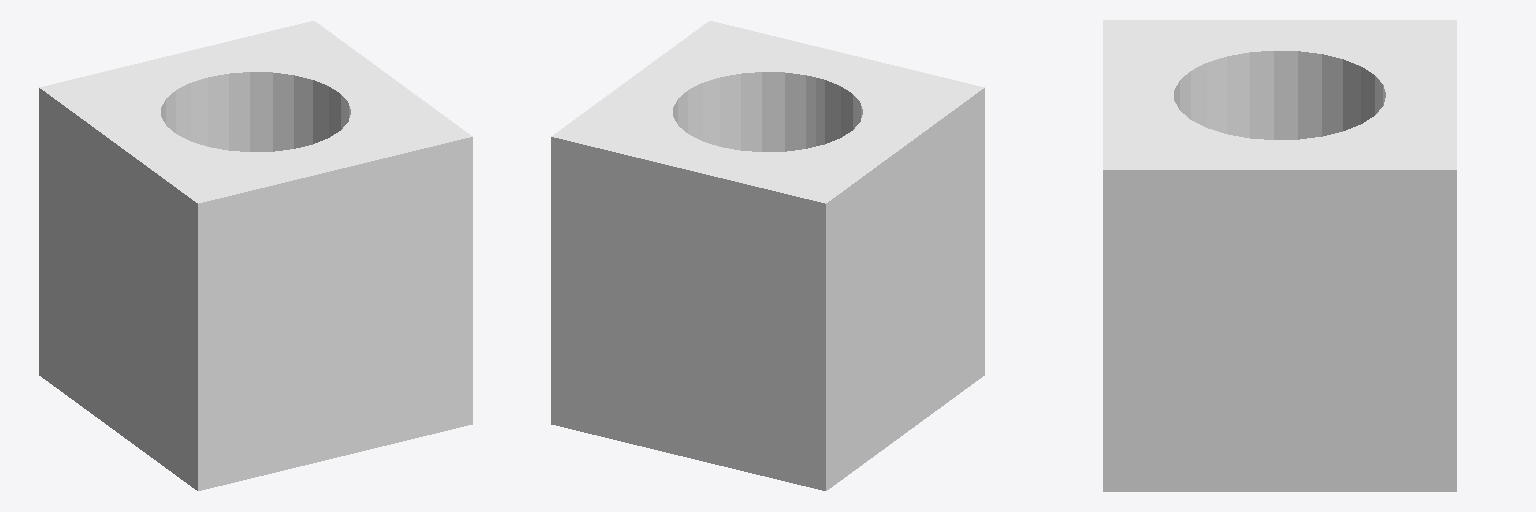
The robot description file, URDF, robot "cube_hole.SLDPRT":
<?xml version="1.0" encoding="utf-8"?>
<!-- This URDF was automatically created by SolidWorks to URDF Exporter! Originally created by [author] ([email redacted]) 
     Commit Version: 1.5.1-0-g916b5db  Build Version: 1.5.7152.31018
     For more information, please see http://wiki.ros.org/sw_urdf_exporter -->
<robot
  name="cube_hole.SLDPRT">
  <link
    name="cube_hole">
    <inertial>
      <origin
        xyz="5.9047E-19 -1.2962E-18 1.8895E-18"
        rpy="0 0 0" />
      <mass
        value="0.089657" />
      <inertia
        ixx="4.2732E-05"
        ixy="2.8799E-21"
        ixz="2.76367191918653E-37"
        iyy="4.2732E-05"
        iyz="3.29112957589764E-22"
        izz="4.8107E-05" />
    </inertial>
    <visual>
      <origin
        xyz="0 0 0"
        rpy="1.5707963267949 0 0" />
      <geometry>
        <mesh
          filename="package://cube_hole/meshes/cube_hole.STL" />
      </geometry>
      <material
        name="">
        <color
          rgba="1 1 1 1" />
        <texture
          filename="package://cube_hole/textures/" />
      </material>
    </visual>
    <collision>
      <origin
        xyz="0 0 0"
        rpy="1.5707963267949 0 0" />
      <geometry>
        <mesh
          filename="package://cube_hole/meshes/cube_hole.STL" />
      </geometry>
    </collision>
  </link>
</robot>

--- What the picture shows (computed from the rendered views, not written in the file) ---
The picture shows the robot from 3 angles, left to right: view 1: azimuth 30°, elevation 25°; view 2: azimuth 150°, elevation 25°; view 3: azimuth 270°, elevation 25°; orthographic projection.
Robot: cube_hole.SLDPRT — 1 links, 0 joints (none); root link cube_hole; default pose: all joints at 0.
Links seen in each view (by area): view 1: cube_hole; view 2: cube_hole; view 3: cube_hole.
Link boxes in pixels (left/top/right/bottom): cube_hole: left=39, top=21, right=472, bottom=490; cube_hole: left=551, top=21, right=984, bottom=490; cube_hole: left=1103, top=20, right=1456, bottom=491.
Bounding box of the posed robot: 0.05 × 0.05 × 0.05 m (x, y, z).
1 mesh visuals loaded from 1 distinct referenced files (1 binary STL).